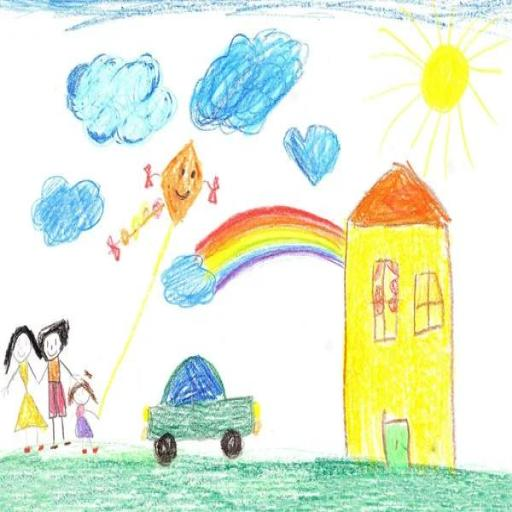person: (0, 320, 47, 462), (38, 310, 74, 453), (65, 366, 100, 457)
